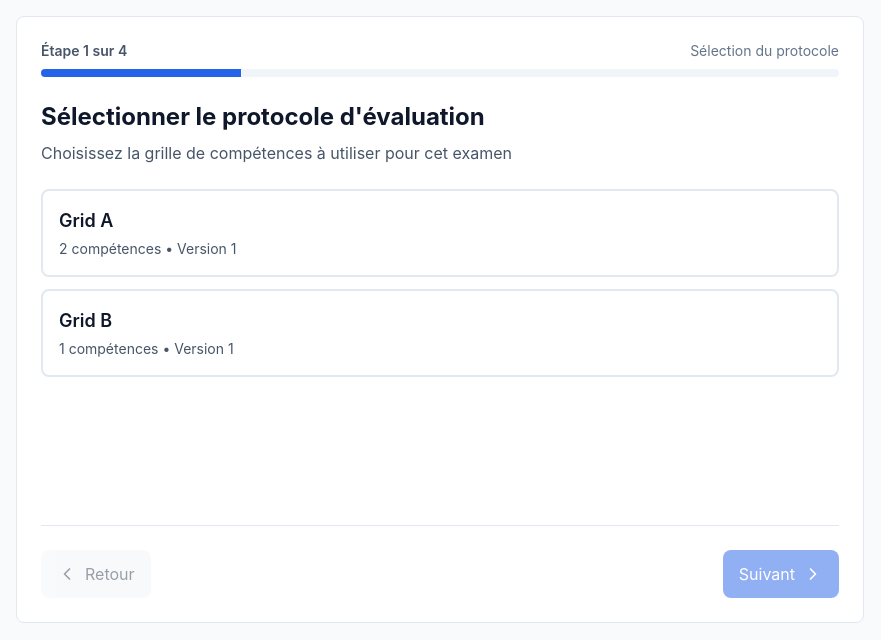
Scenario: ExamWizard › enables Next button when a grid is selected
Click the text "Grid A": [440, 233] box x1=41 y1=189 x2=839 y2=277
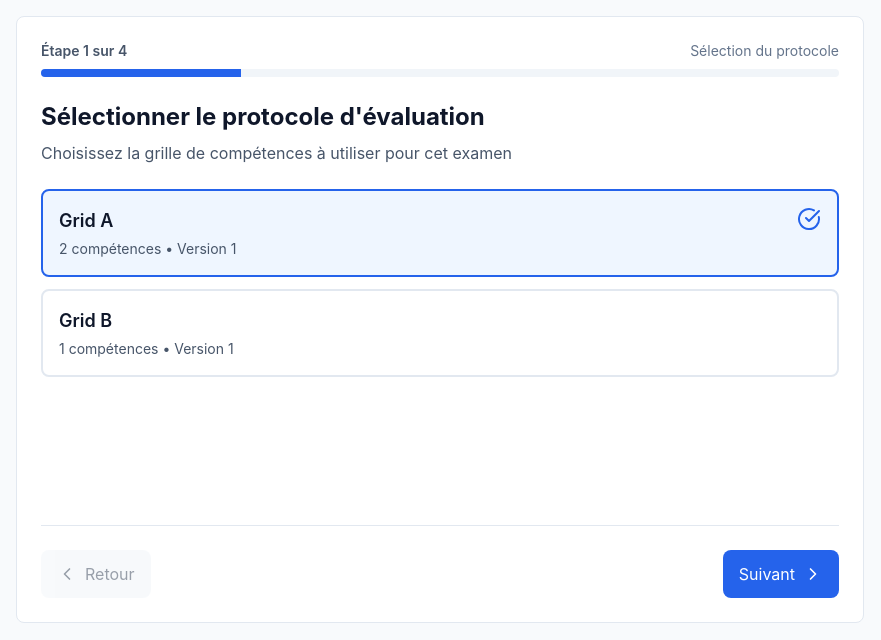
Now the button "Suivant" is enabled, box x1=723 y1=550 x2=839 y2=598
